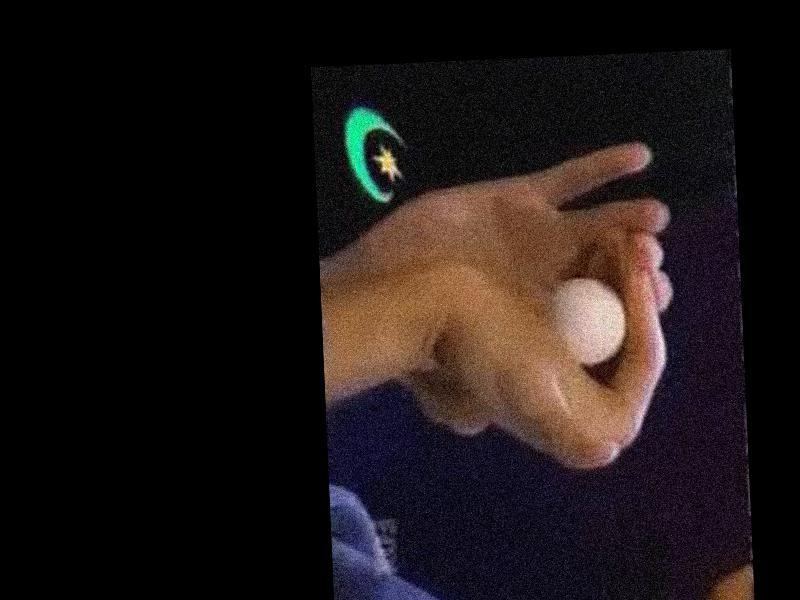Eggs: (556, 274, 629, 368)
